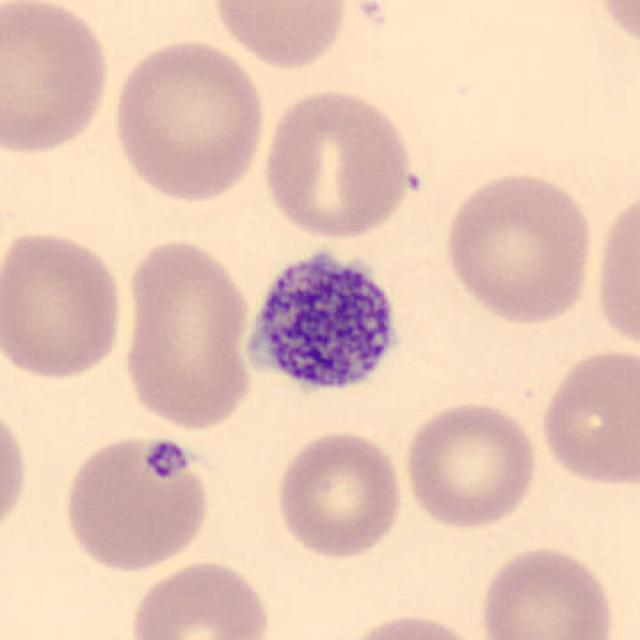Platelets: (245, 248, 398, 394), (142, 436, 192, 482)
RBC: (117, 234, 258, 436), (107, 34, 270, 206), (439, 166, 597, 328), (260, 83, 418, 241), (59, 430, 213, 575), (0, 226, 130, 384), (400, 397, 542, 532), (0, 0, 114, 160), (272, 426, 407, 560), (535, 344, 638, 490), (474, 541, 620, 640), (126, 555, 276, 640), (206, 0, 352, 72), (590, 182, 640, 358), (0, 395, 32, 545), (338, 610, 489, 640), (586, 0, 640, 56)
